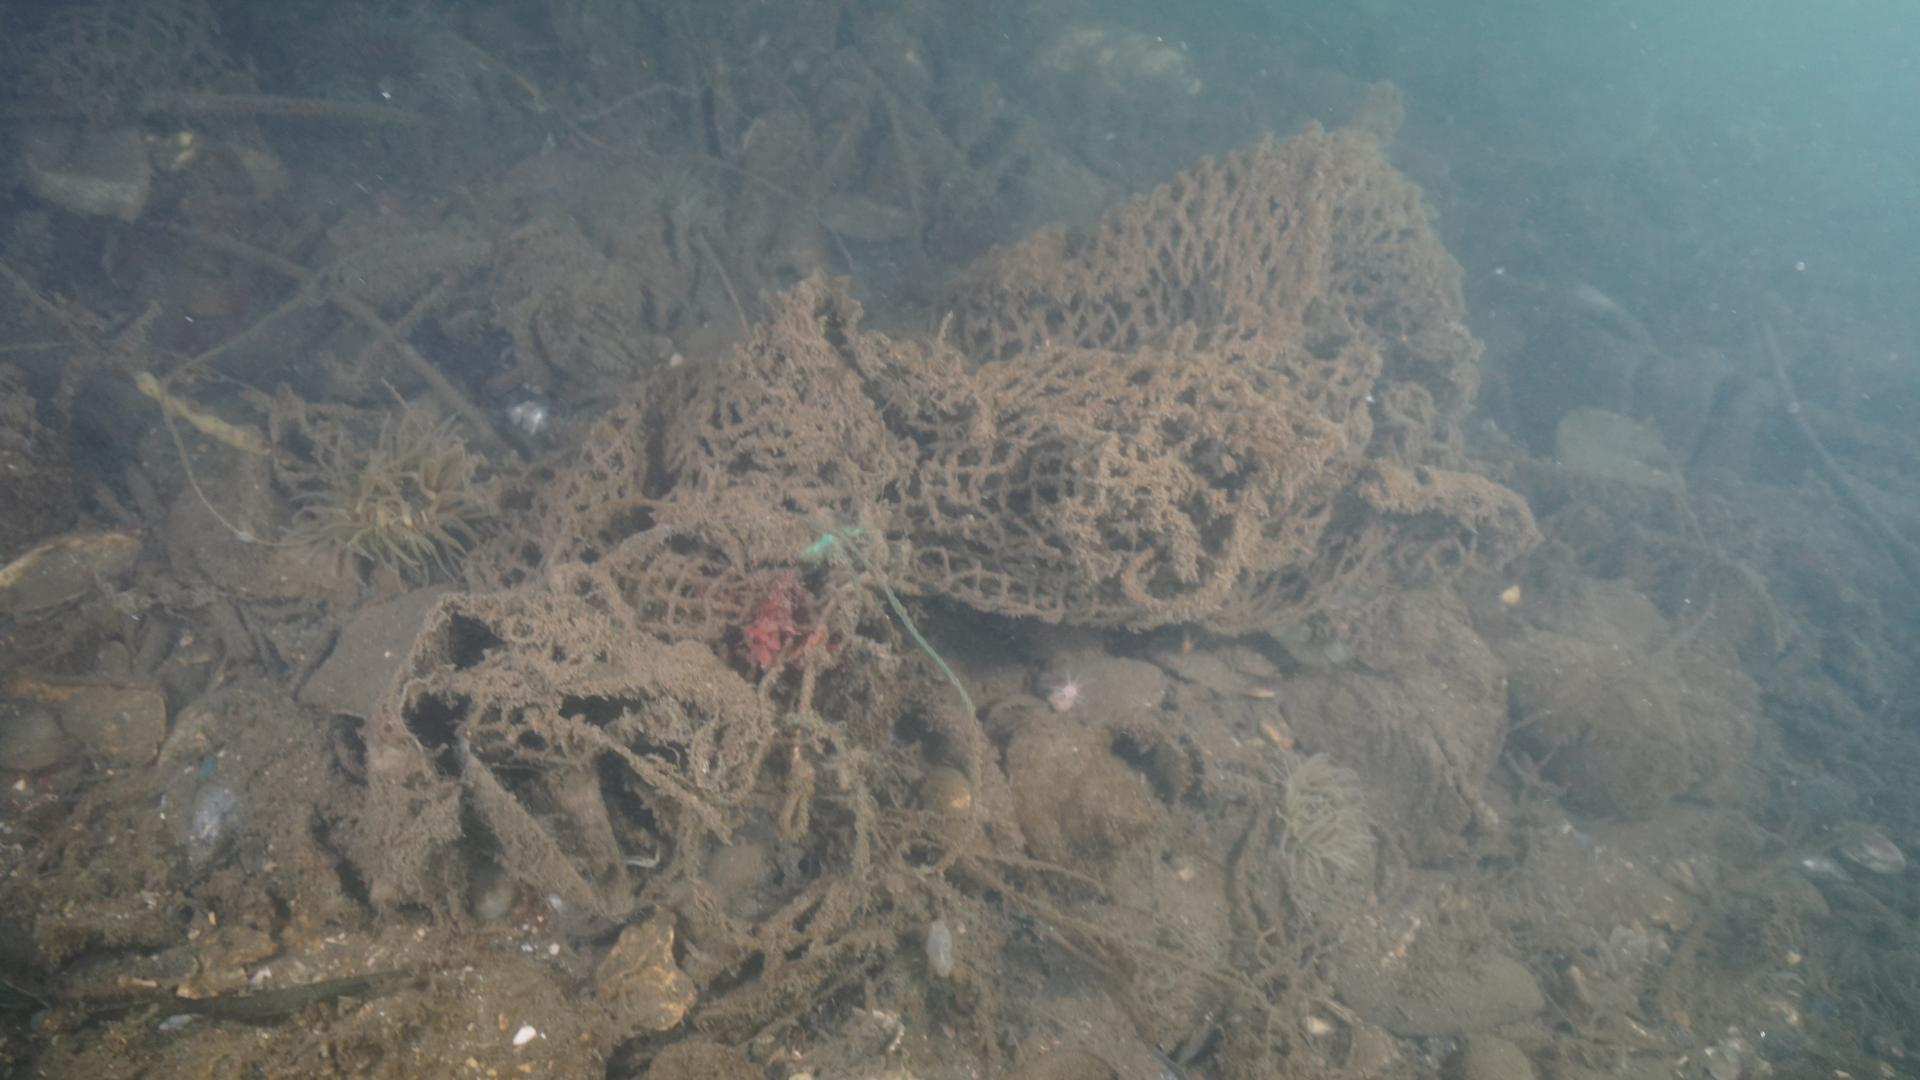fish net: (506, 113, 1543, 637)
